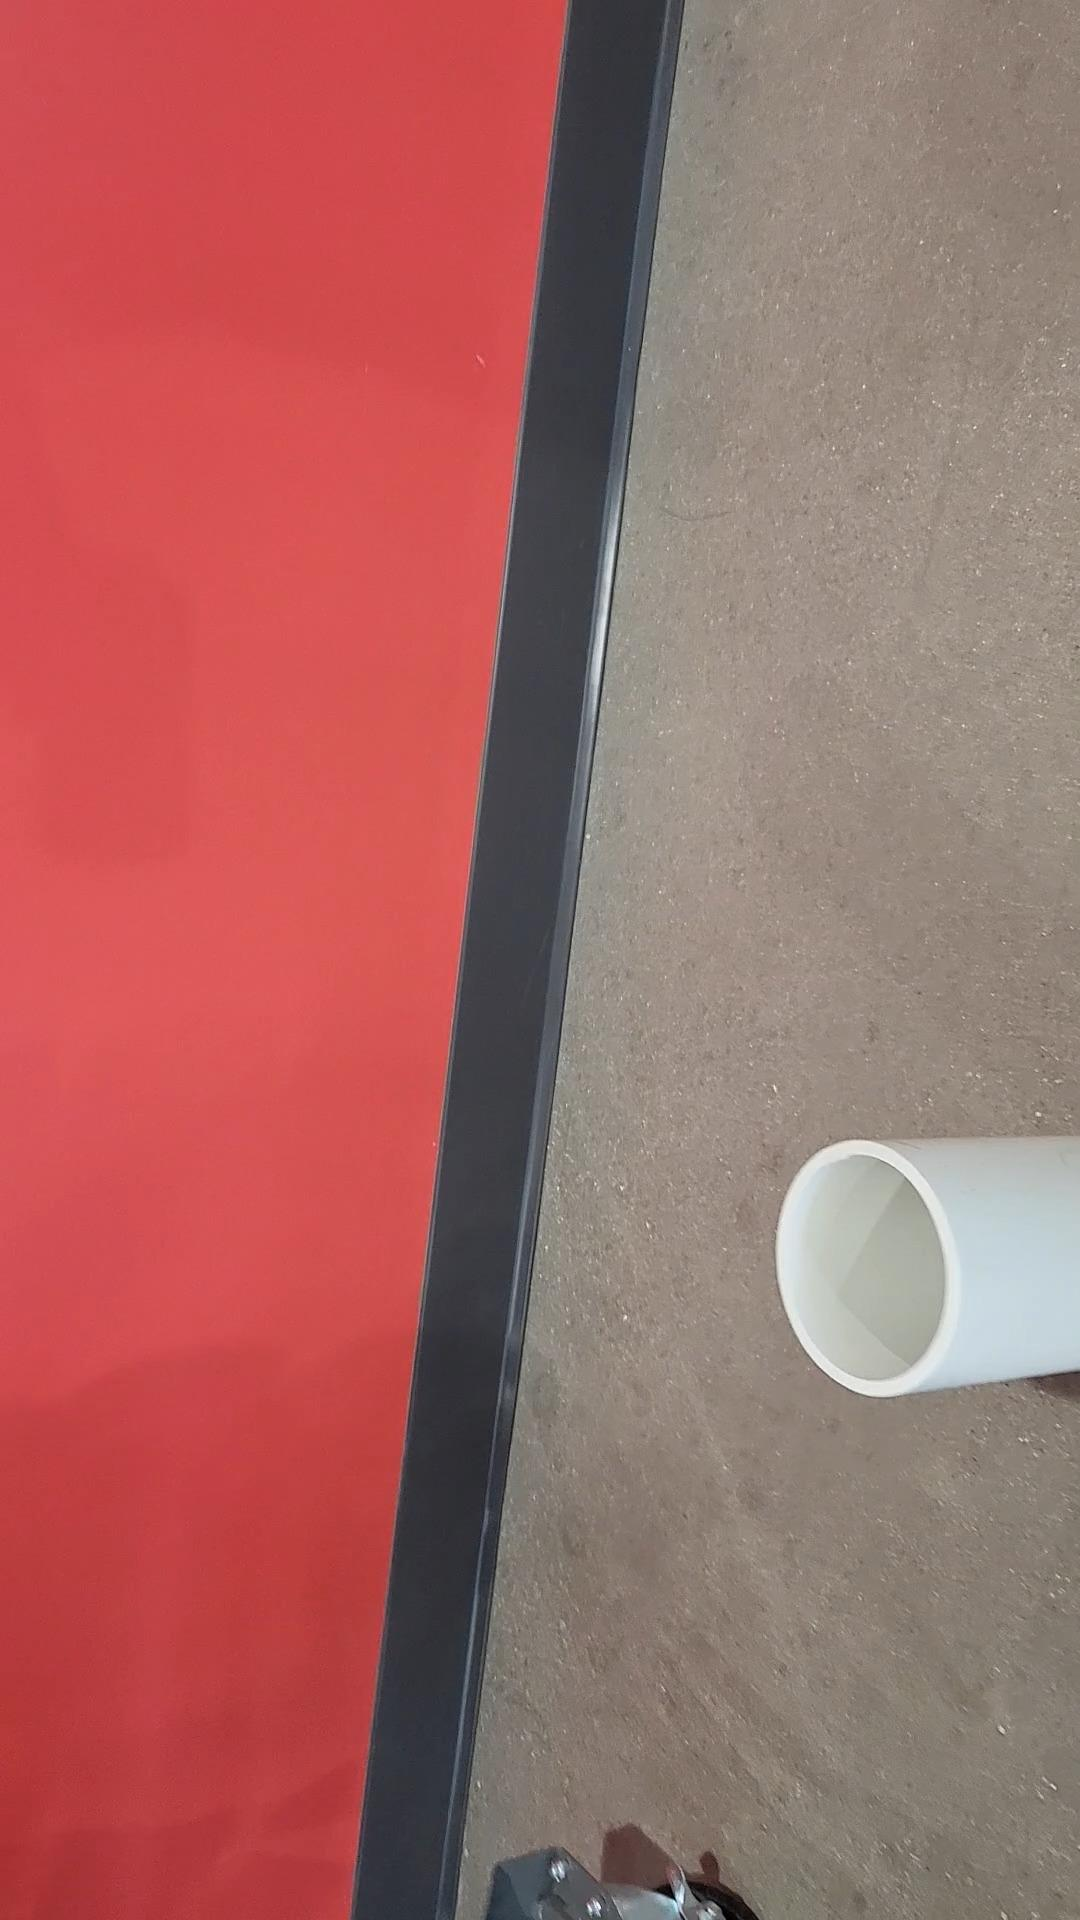coral: (775, 1139, 1080, 1398)
